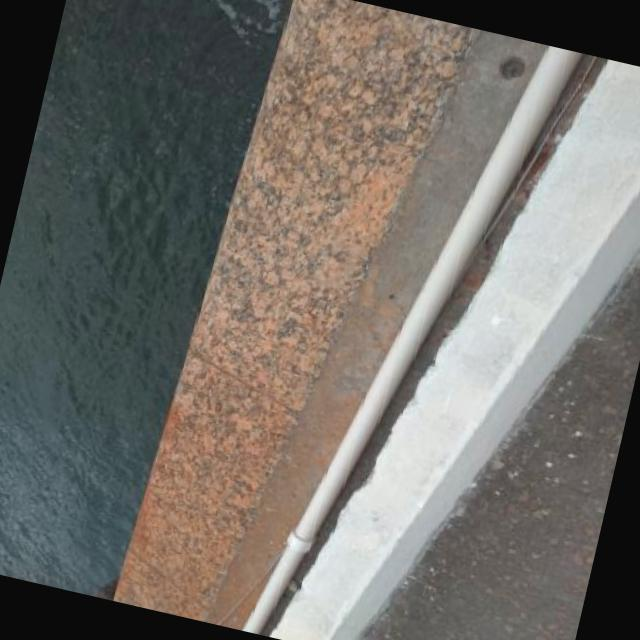gas: (240, 47, 575, 630)
